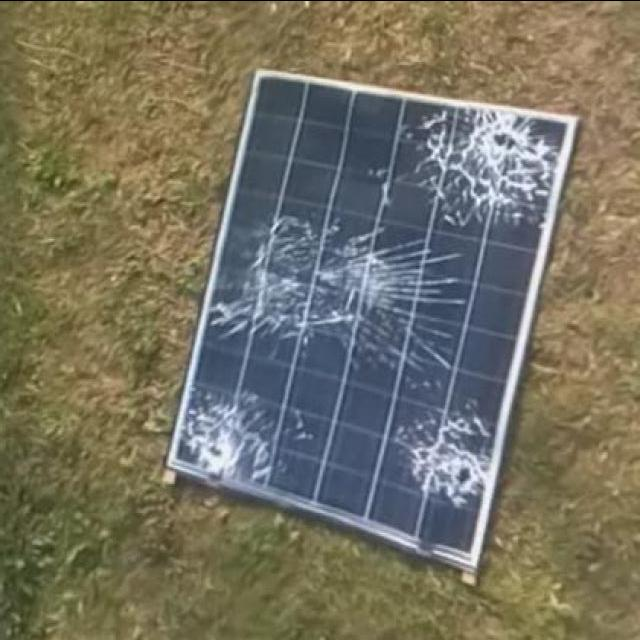cracked: (172, 66, 582, 572)
